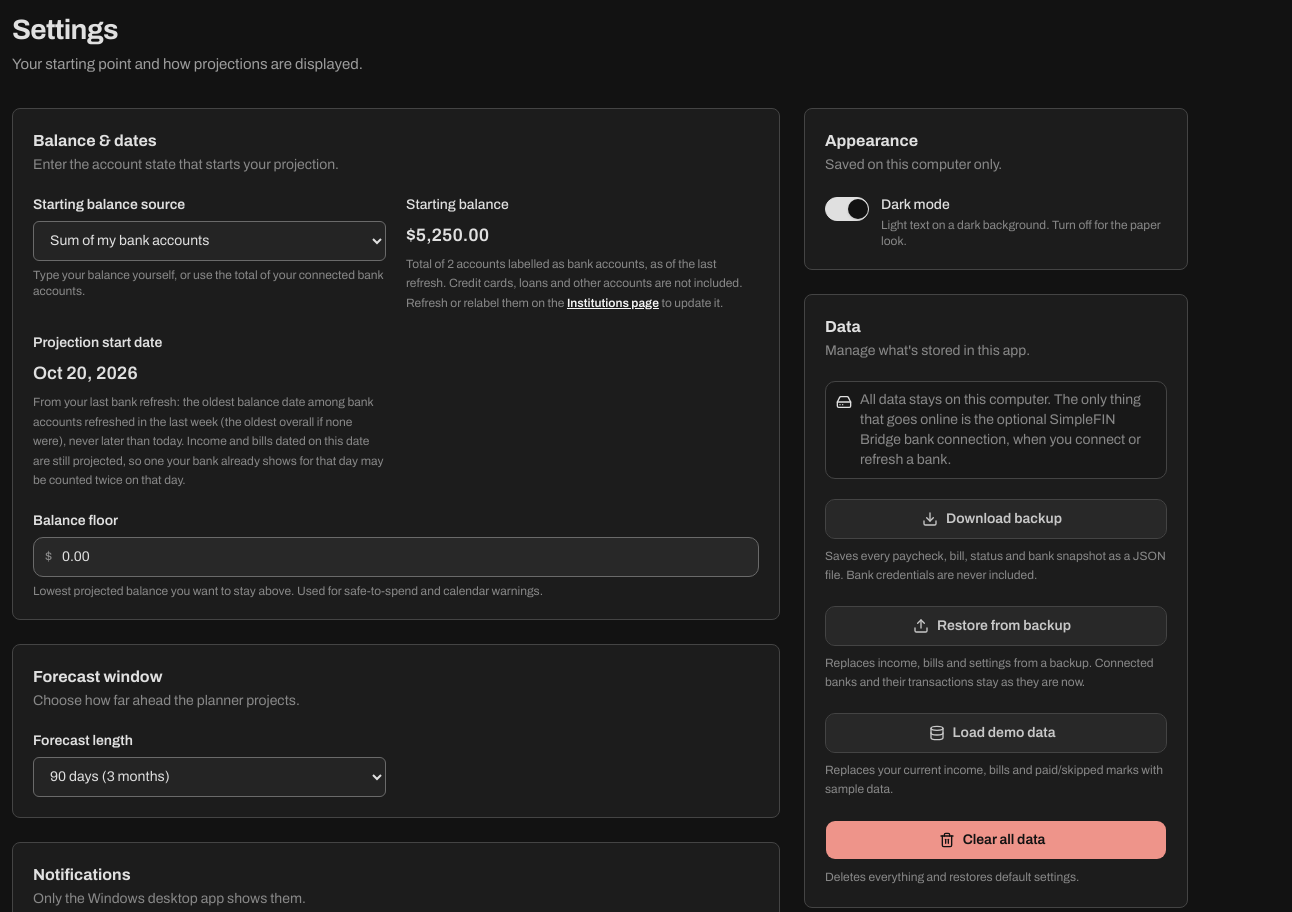
it: Settings → projection start date › switching the source swaps between the derived date and the typed one
Select "Enter it myself" in the dropdown with test id "settings-balance-source": point(210, 240) [33,220,386,260]
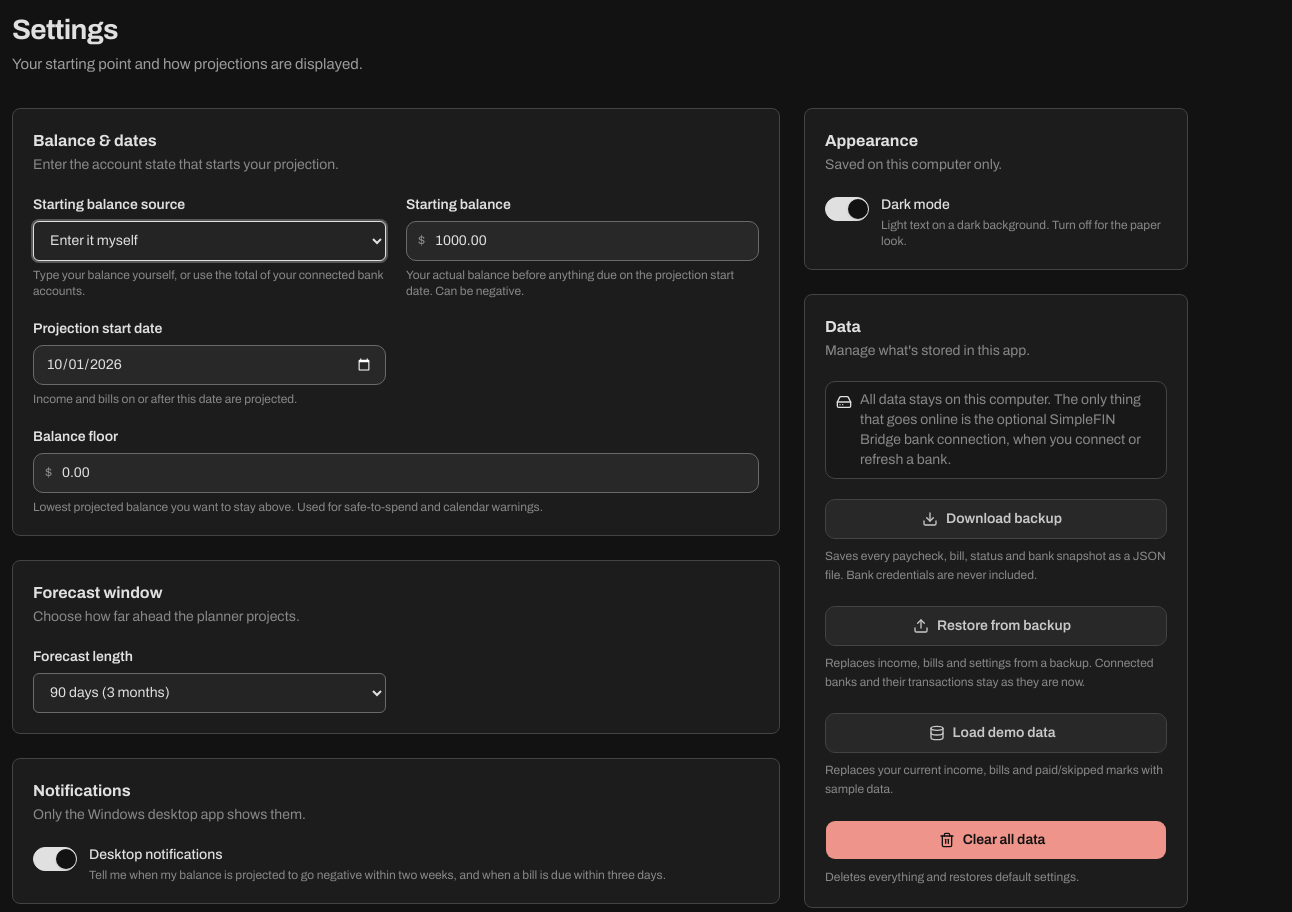
expect the date field with test id "settings-start-date" holds "2026-10-01": met, box [33,344,386,384]
expect the element with test id "settings-start-date-derived" is gone: met
Select "Sum of my bank accounts" in the dropdown with test id "settings-balance-source": point(210, 240) [33,220,386,260]
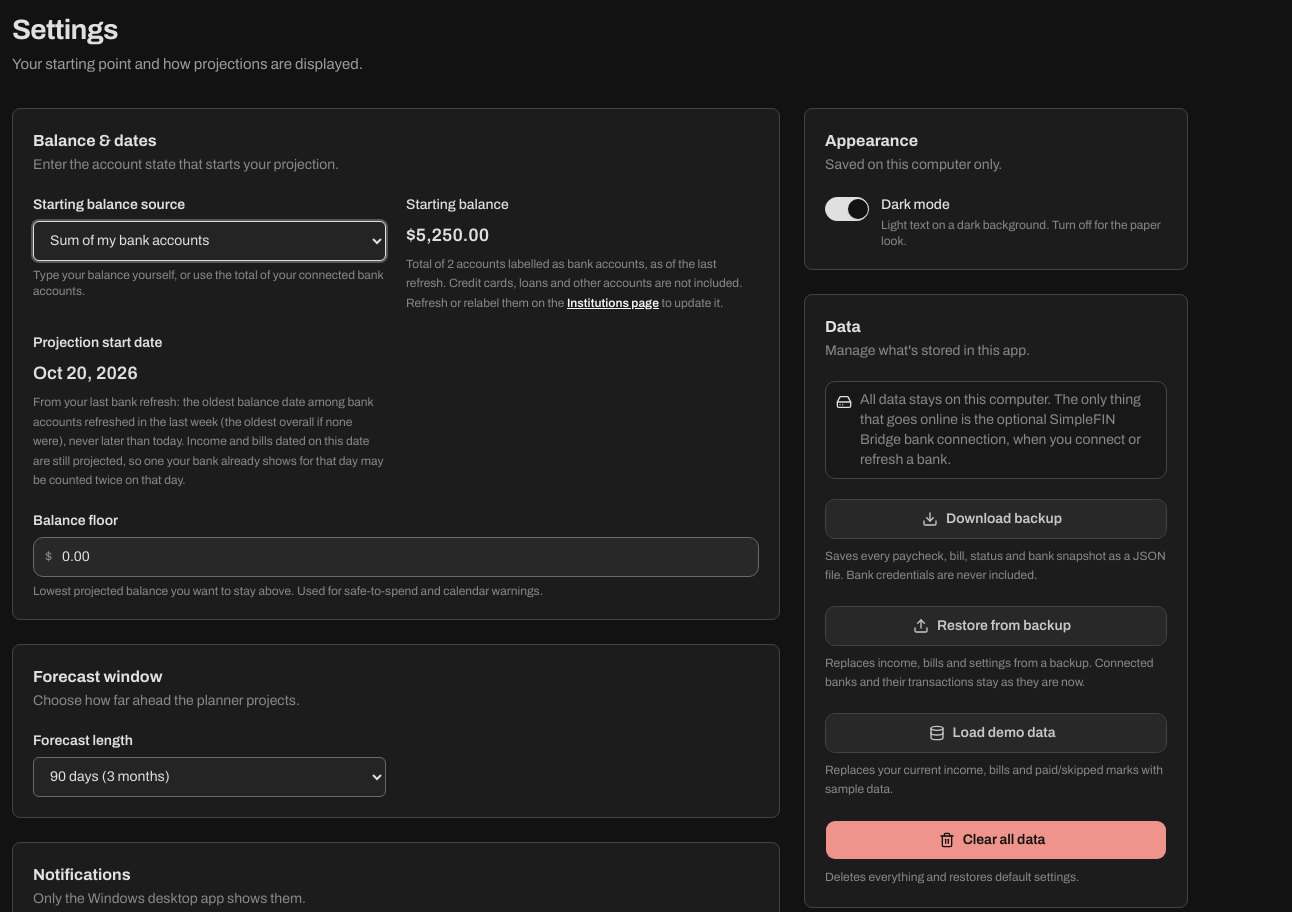
expect the element with test id "settings-start-date-derived" is shown: met, box [33,333,386,490]
